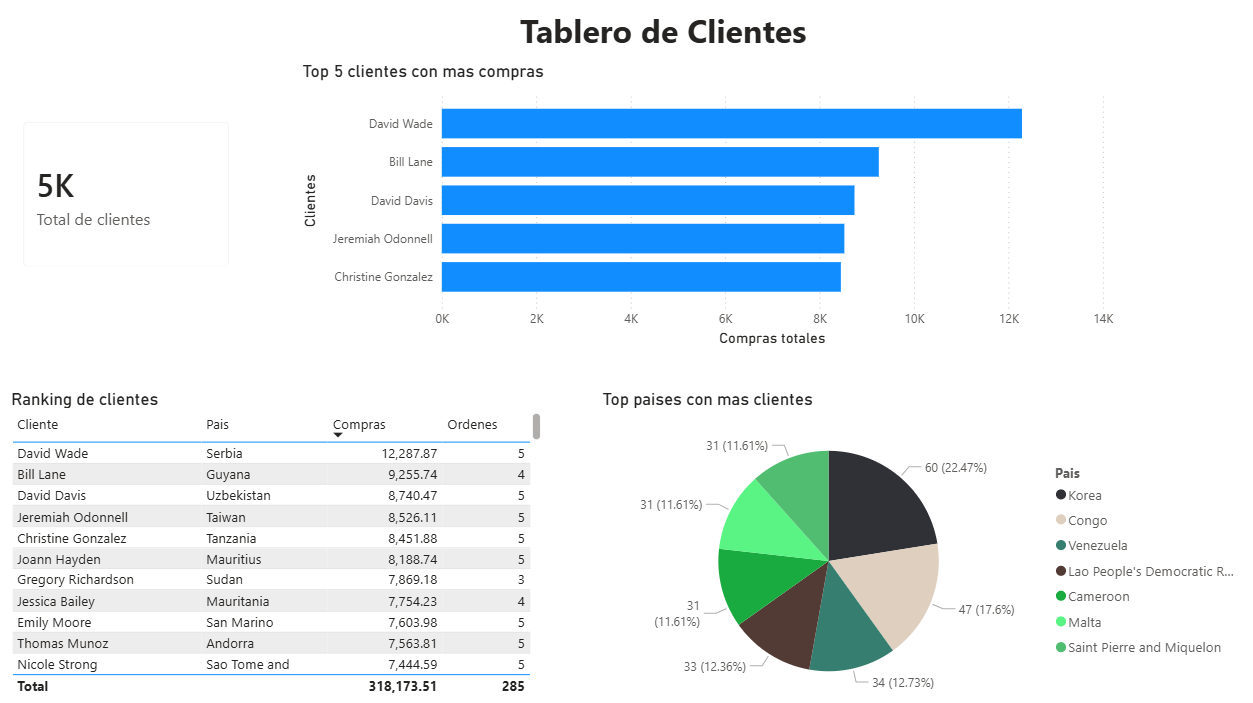

The dashboard page shown, as its layout file describes it:
{"tool":"powerbi","page":{"name":"Tablero de Clientes","canvas":[1280,720],"ordinal":2},"visuals":[{"type":"textbox","box":[450.3,13.7,439.1,57.2],"z":0},{"type":"cardVisual","fields":{"Data":["Count(salesdatawarehouse dimcustomer.CustomerKey)"]},"box":[16.5,113.9,239.3,178.5],"z":1000},{"type":"clusteredBarChart","title":"Top 5 clientes con mas compras","fields":{"Category":["salesdatawarehouse dimcustomer.CustomerFullName"],"Y":["Sum(salesdatawarehouse factsales.TotalPrice)"]},"box":[306.4,70.9,816.6,288.7],"z":2000},{"type":"pieChart","title":"Top paises con mas clientes","fields":{"Category":["salesdatawarehouse dimcustomer.Country"],"Y":["Count(salesdatawarehouse dimcustomer.CustomerKey)"]},"box":[605.2,396.3,653.3,324.1],"z":3000},{"type":"tableEx","title":"Ranking de clientes","fields":{"Values":["salesdatawarehouse dimcustomer.CustomerFullName","salesdatawarehouse dimcustomer.Country","Sum(salesdatawarehouse factsales.TotalPrice)","CountNonNull(salesdatawarehouse factsales.OrderID)"]},"box":[16.5,396.3,536.8,310.2],"z":4000}]}

Visuals, with their boxes in screenshot pixels (x1, y1, x2, y2), scaled from the page's 1280x720 canvas onto the 1253x703 screenshot:
textbox: (441,13,871,69)
cardVisual - Count(salesdatawarehouse dimcustomer.CustomerKey): (16,111,250,285)
"Top 5 clientes con mas compras" clusteredBarChart: (300,69,1099,351)
"Top paises con mas clientes" pieChart: (592,387,1232,702)
"Ranking de clientes" tableEx: (16,387,542,690)
